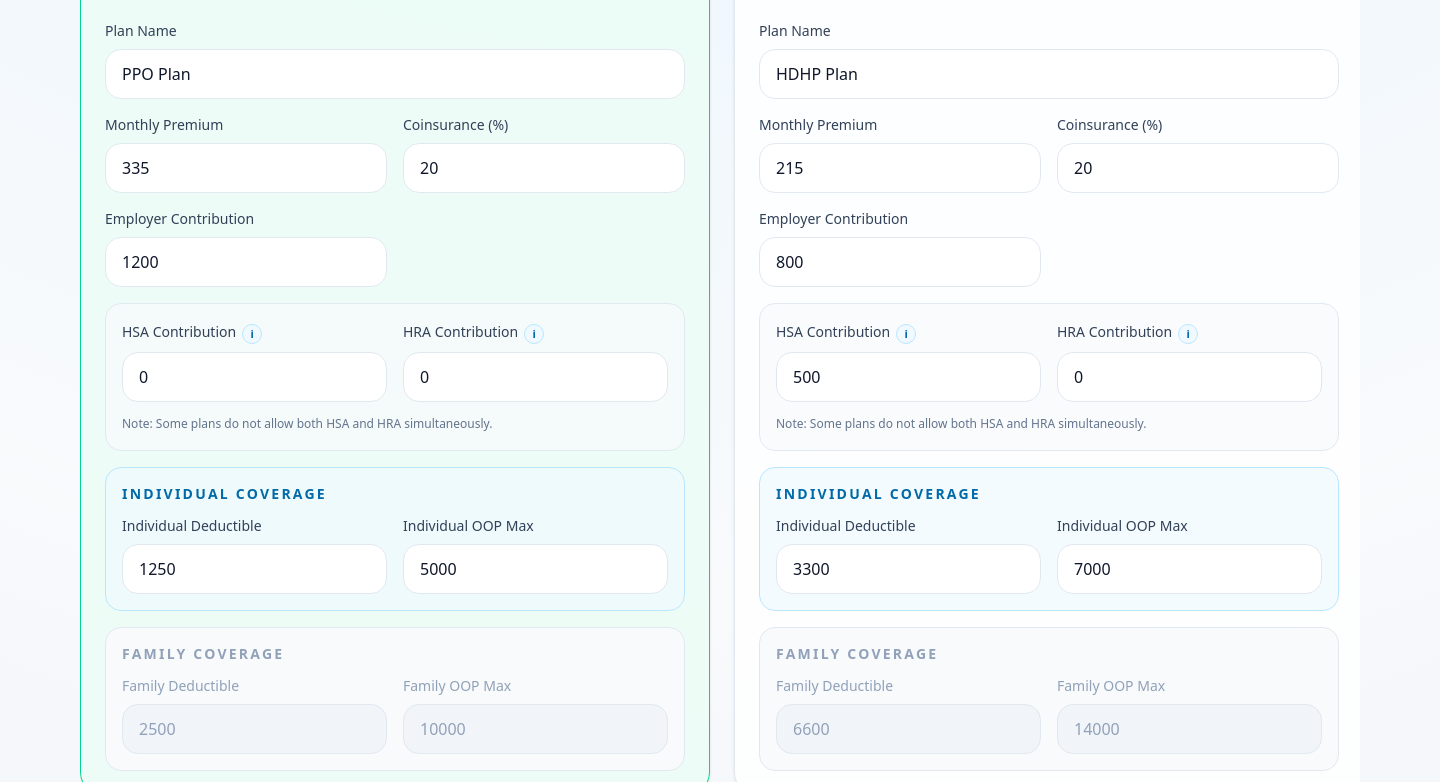
it: App integration › updates totals when hsa contribution changes
(page scrolled)
Replace the text in the 1st number field named "HSA Contribution" with "500" at [254, 377], box top-left (122, 352), bottom-right (387, 402)
(page scrolled)
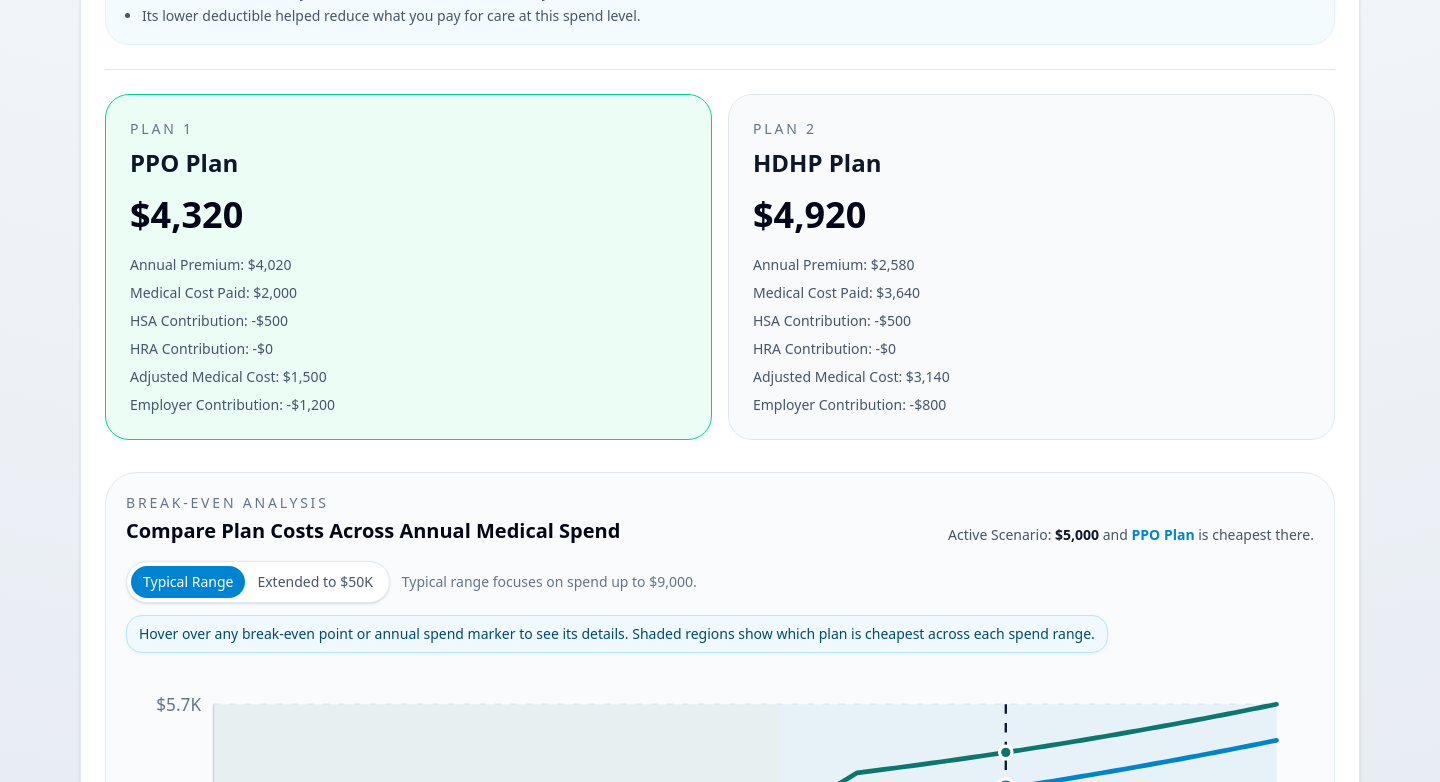
Expected: the text "$4,320" is shown, top-left (130, 190), bottom-right (243, 239)
Expected: the text "HSA Contribution: -$500" below "$2,000" is shown, top-left (130, 311), bottom-right (288, 330)
Expected: the text "Adjusted Medical Cost: $1,500" is shown, top-left (130, 367), bottom-right (327, 386)
